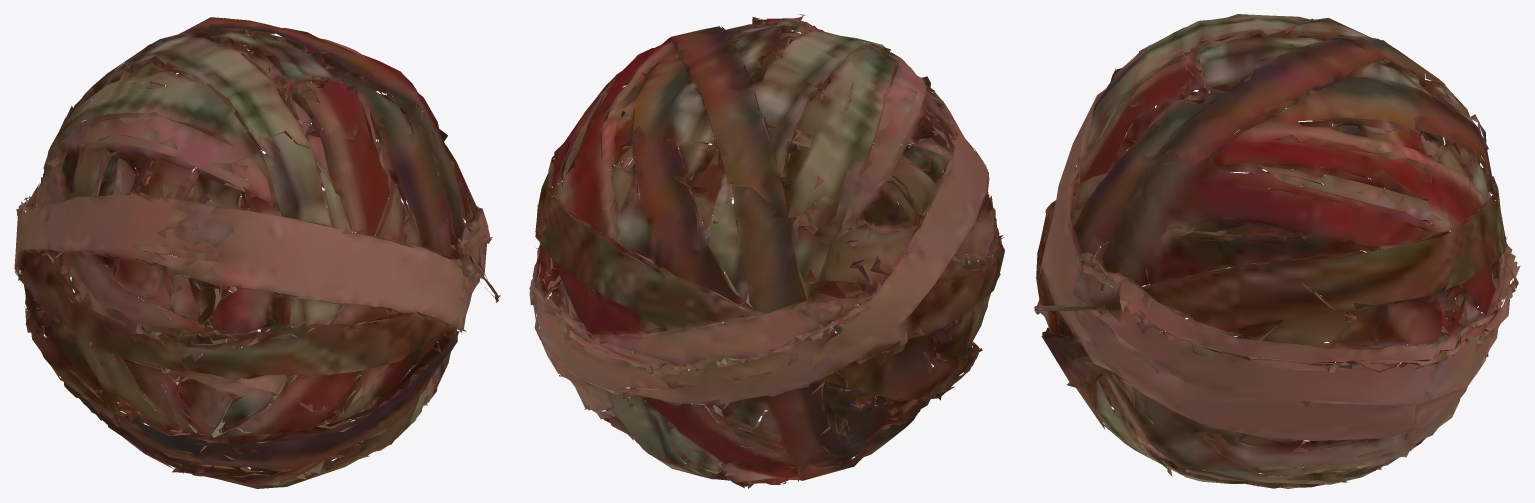
File: ropa_ribbon_ball.glb
3 renders of one model, left to right at view 1: azimuth 30°, elevation 25°; view 2: azimuth 150°, elevation 25°; view 3: azimuth 270°, elevation 25°, orthographic. The views are drawn at different scales.
Visible parts, largest first — view 1: Object_2; view 2: Object_2; view 3: Object_2.
Boxes of the visible parts, x1,y1,x2,y2 form: Object_2: (14, 17, 500, 488); Object_2: (529, 14, 1004, 488); Object_2: (1034, 14, 1520, 488).
Size of the model in its own units: 0.1184 by 0.1184 by 0.1204.
1 material, 1 textured.
